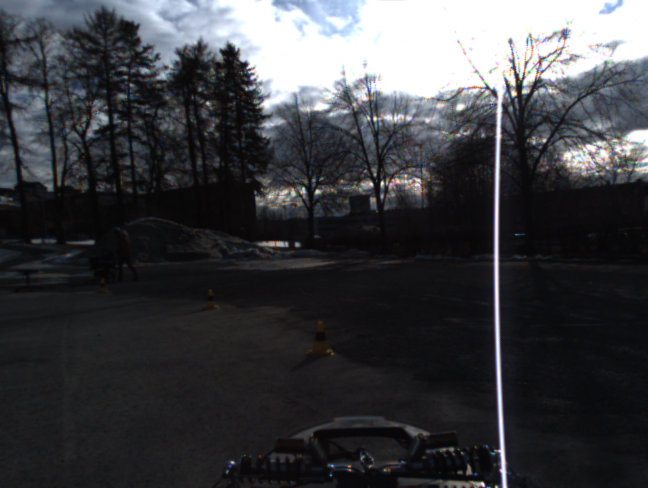cone-small-yellow: (307, 321, 335, 356), (203, 289, 218, 310), (97, 277, 109, 293)
